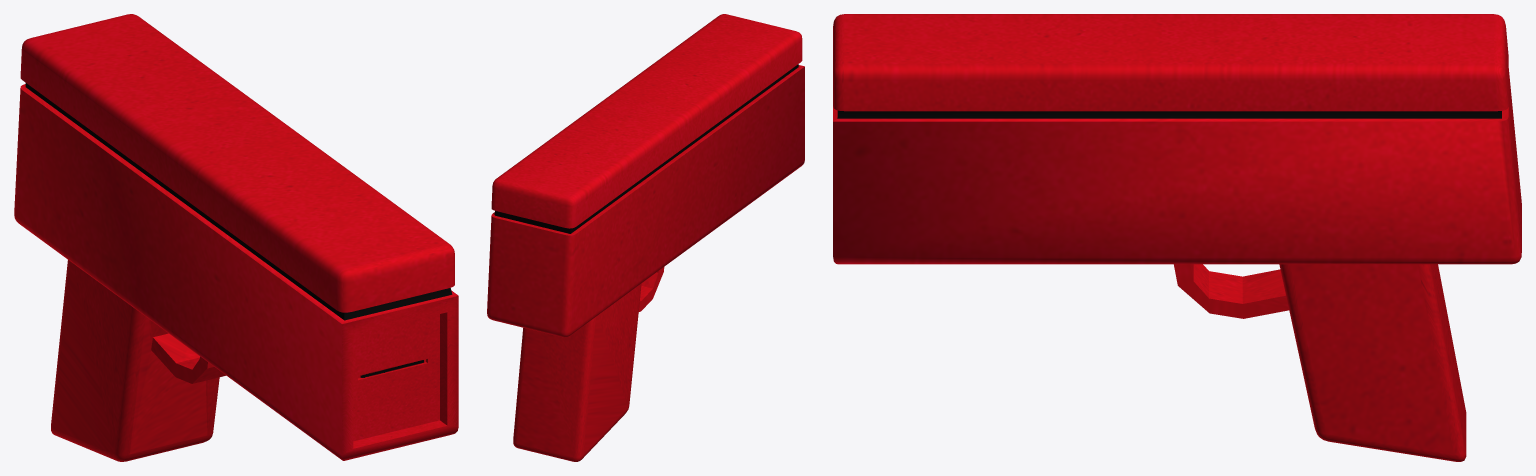
The model's file is Money Gun.fbx.
The picture shows the model from 3 angles, left to right: view 1: azimuth 30°, elevation 25°; view 2: azimuth 150°, elevation 25°; view 3: azimuth 270°, elevation 25°; orthographic projection. The views are drawn at different scales.
Parts seen in each view (by area): view 1: Box001; view 2: Box001; view 3: Box001.
Part boxes in pixels (x1,y1,x2,y2): Box001: [14, 14, 458, 461]; Box001: [487, 14, 804, 461]; Box001: [833, 14, 1521, 461].
Bounding box in the file's own units: 2.39 × 7.56 × 11.76.
1 material, 1 textured.
